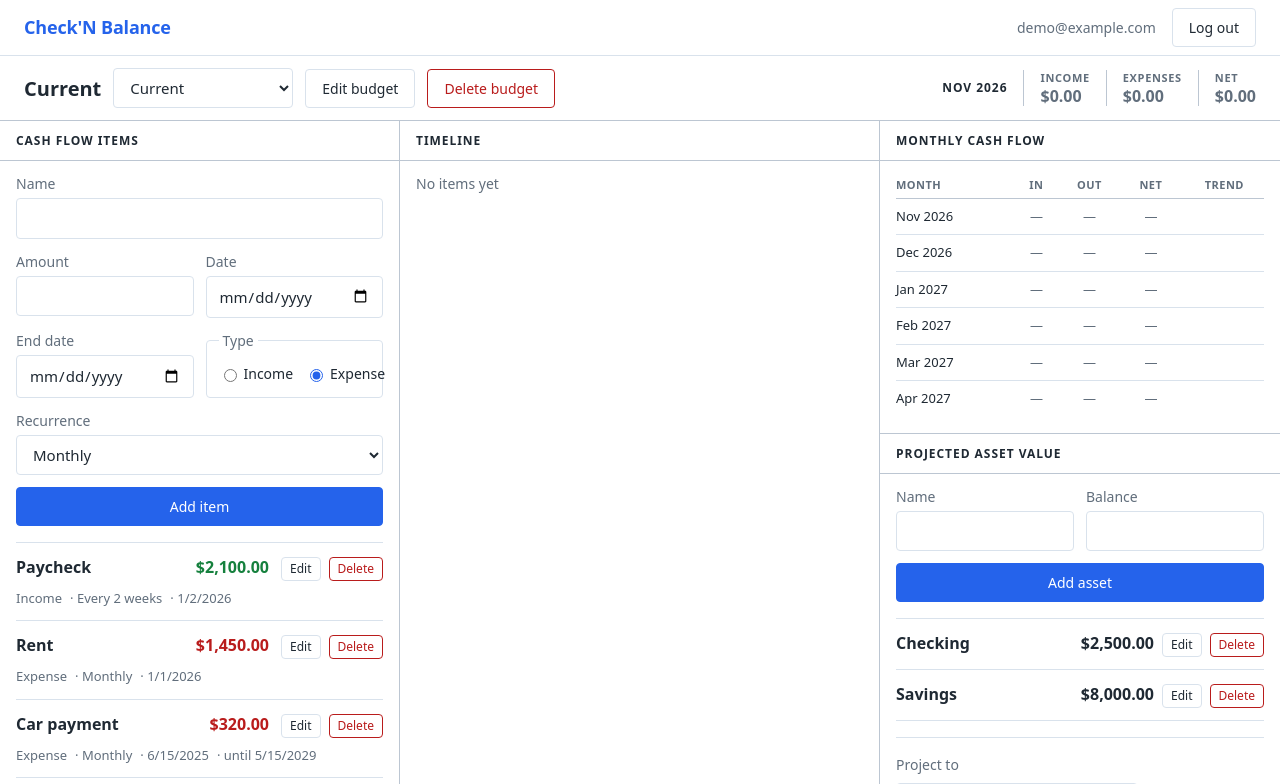
Test: the budget selector › switches to the chosen budget
The width and height of the screenshot is (1280, 784).
Select "New car what-if" in the dropdown named "Budget" at point(203, 88), box [113,68,293,108]
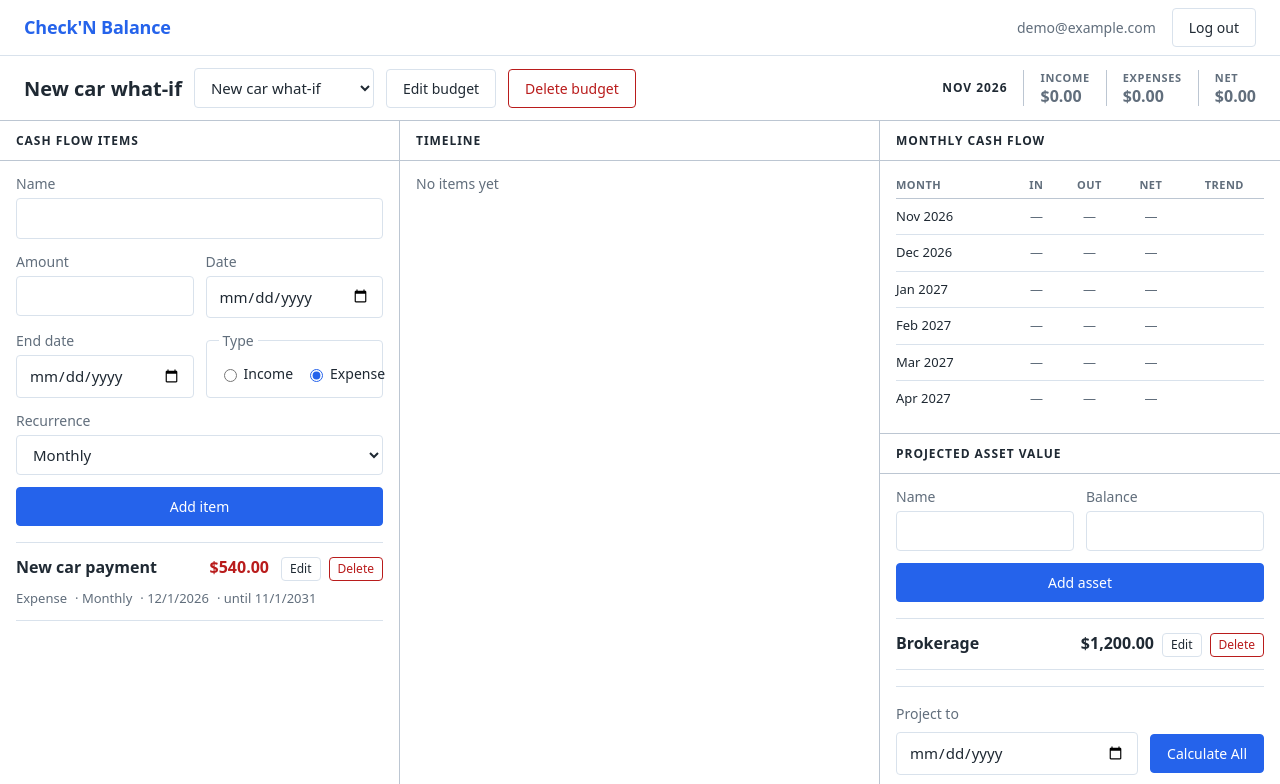
Expected: the heading "New car what-if" is shown, [24,76,182,100]
Expected: the dropdown named "Budget" shows "New car what-if", [194,68,374,108]
